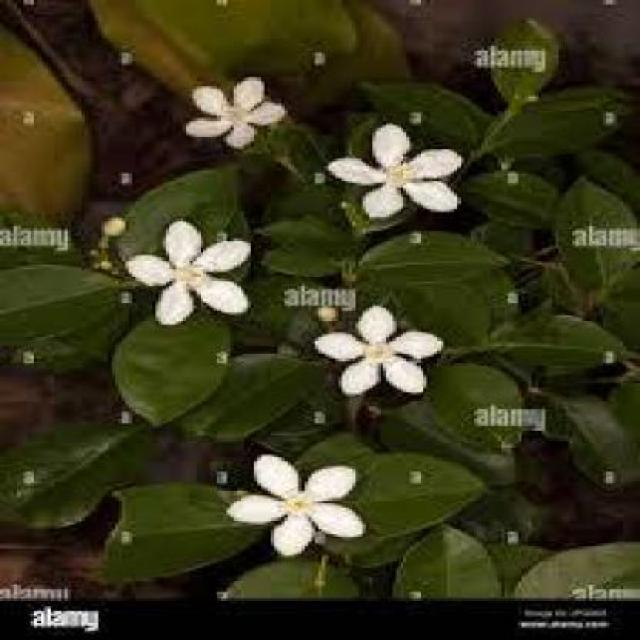flower: (211, 452, 372, 554), (121, 212, 259, 326), (317, 125, 472, 222), (313, 305, 452, 404), (186, 77, 285, 145)
